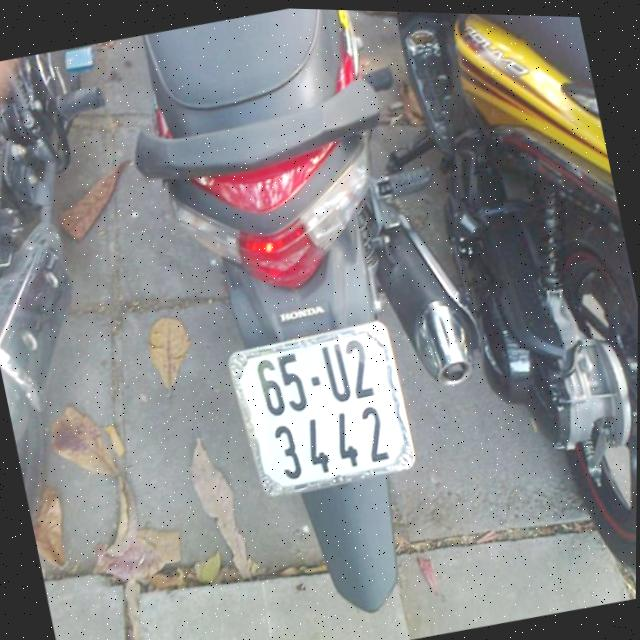motorcycle: (109, 3, 526, 631), (371, 11, 640, 607), (0, 39, 201, 545)
plate: (216, 304, 420, 505)
